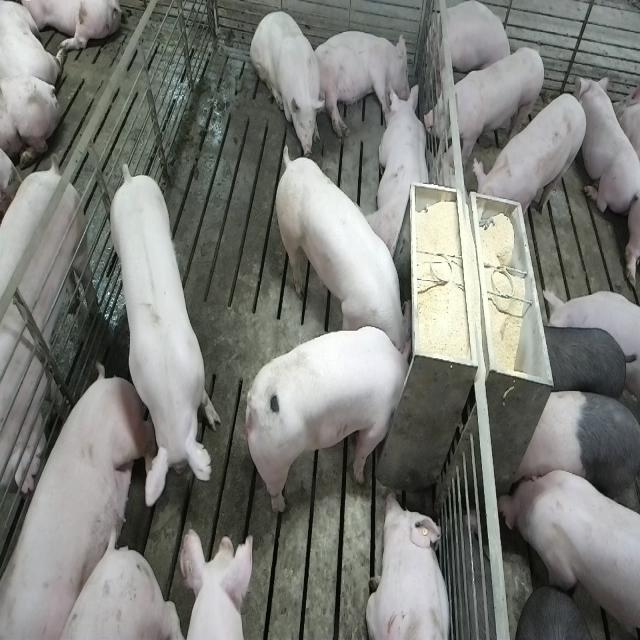Feeding: (249, 324, 419, 517), (272, 140, 410, 356)
Lateral_lying: (0, 365, 144, 640), (310, 29, 410, 139)
Sitting: (250, 7, 324, 158)
Standing: (106, 165, 220, 512), (0, 166, 98, 516), (500, 465, 638, 640), (513, 388, 638, 519), (473, 92, 588, 234), (424, 44, 545, 162), (528, 321, 633, 408), (177, 526, 256, 638), (518, 581, 604, 638)
Sternal_lying: (365, 490, 453, 640), (368, 84, 433, 262), (578, 72, 638, 222), (432, 1, 512, 87)
